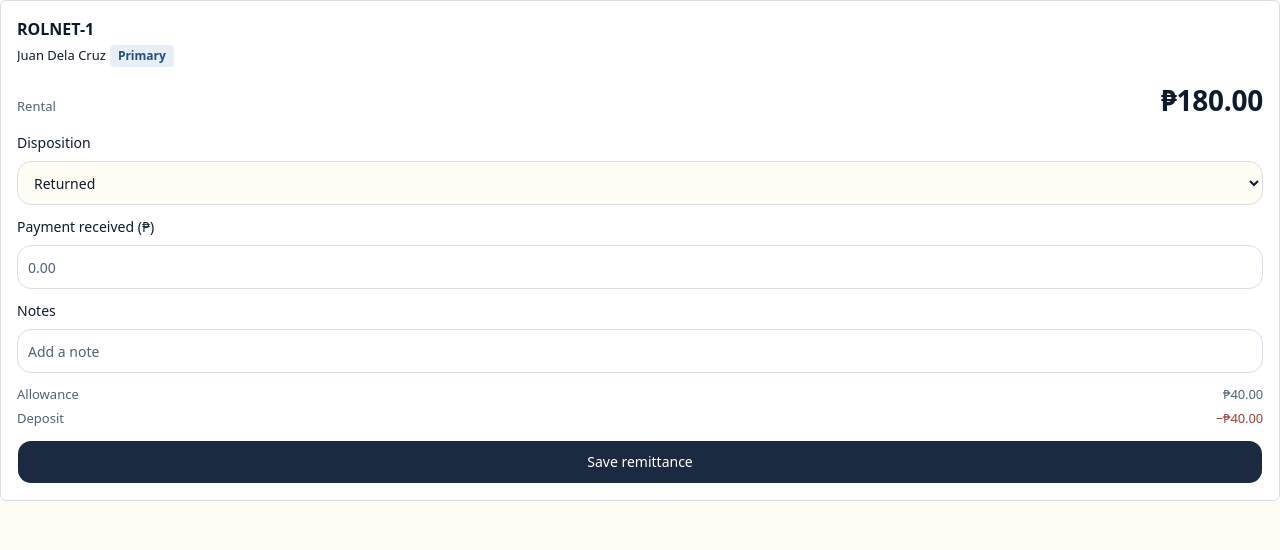
it: DailyCard: recording (feature 008, User Story 1) › keeps the entries and shows the message when a save fails (FR-029)
This screenshot has width=1280, height=550.
Type "100" into the field labelled "Payment received (₱)". click: (640, 267)
box: [17,245,1263,289]
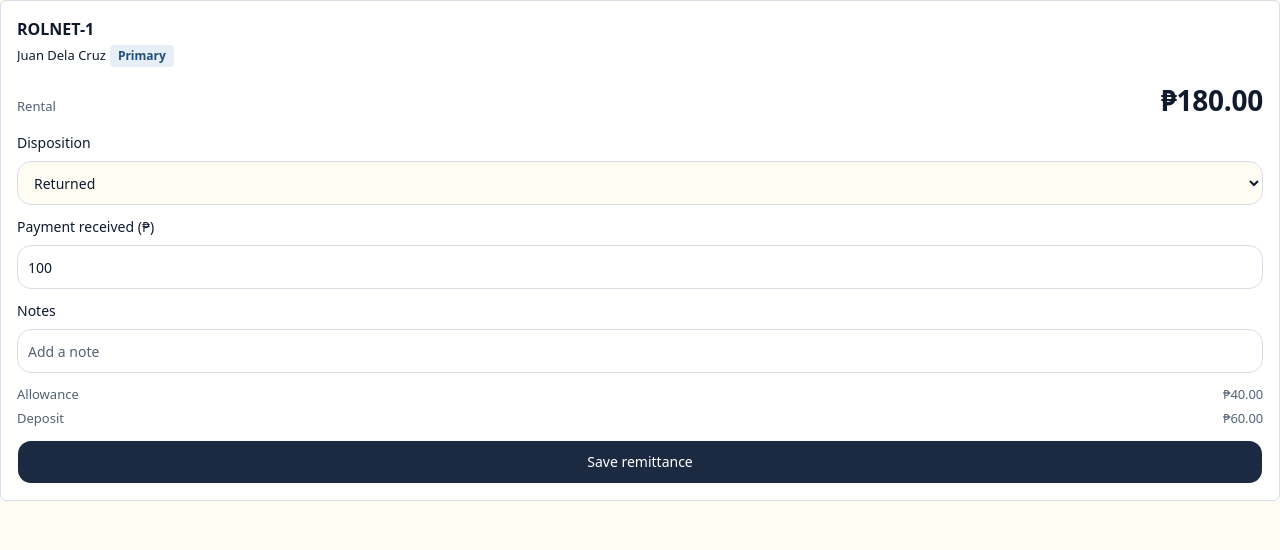
Click the button "Save remittance". click: (640, 462)
box: [17,440,1263,484]
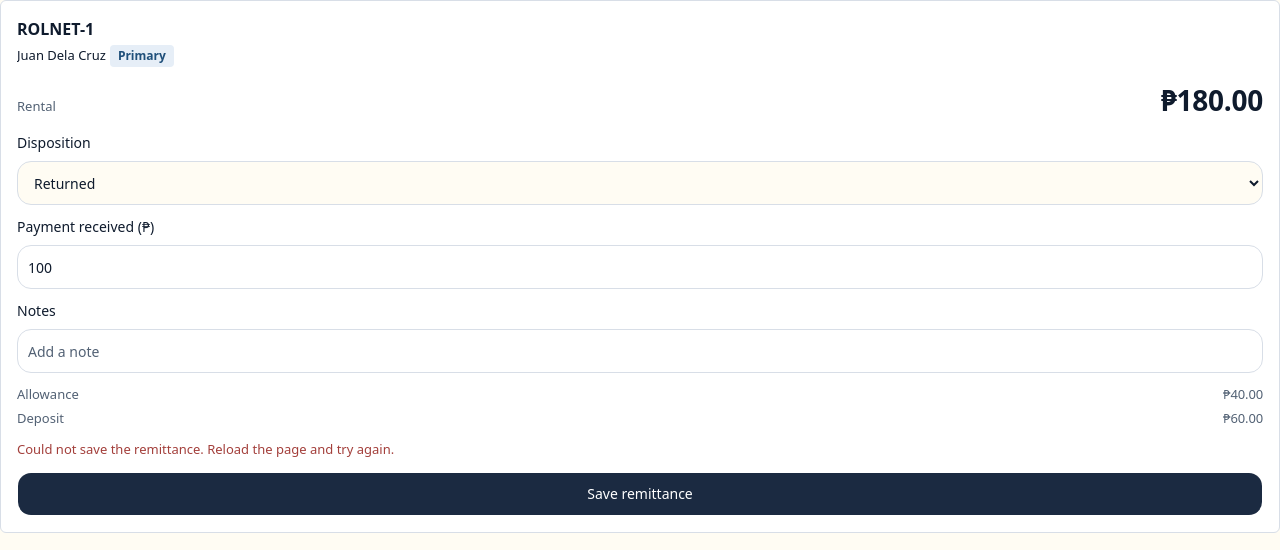
Expected: the button "Save remittance" is enabled, [17,472,1263,516]
Expected: the message shows "Could not save the remittance.", [17,440,394,458]
